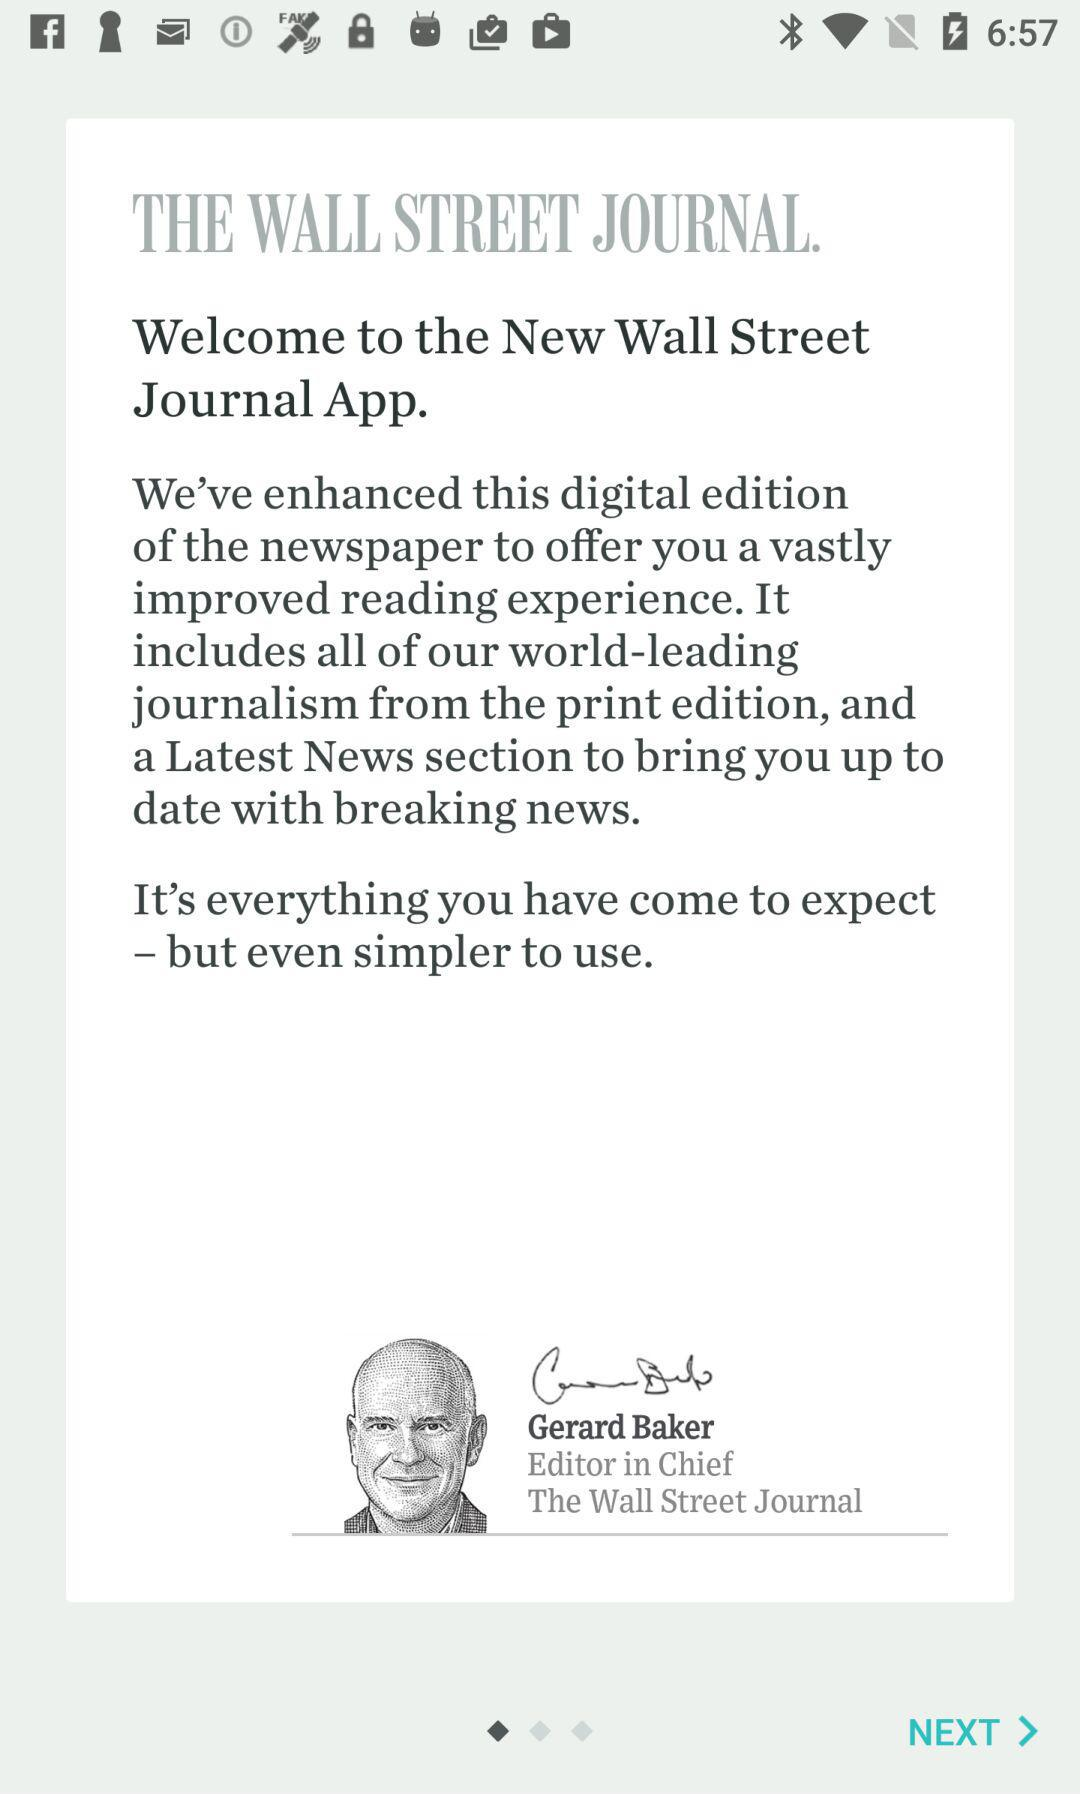Icon: (1017, 1715, 1039, 1748)
Image: (527, 1345, 866, 1515), (345, 1337, 489, 1533)
PageIndicator: (486, 1718, 594, 1743)
Text: (131, 474, 945, 835), (129, 315, 872, 429), (132, 880, 938, 978), (132, 193, 821, 255), (910, 1717, 1001, 1747)
UpperTaskBar: (1, 1, 1080, 56)
